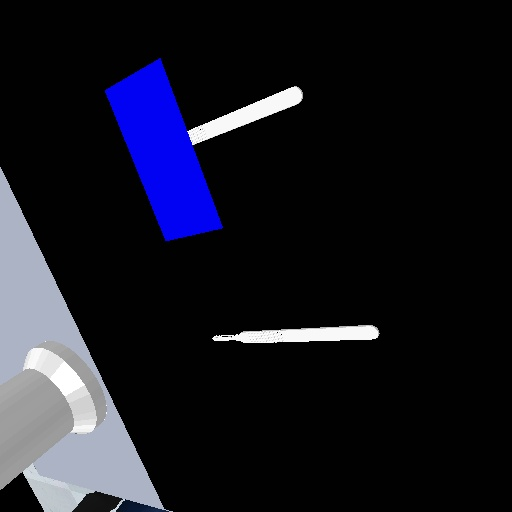bisturi: (185, 83, 307, 147), (209, 321, 387, 346)
